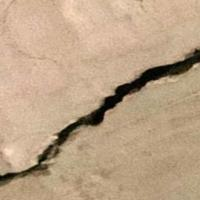crack: (0, 40, 199, 194)
